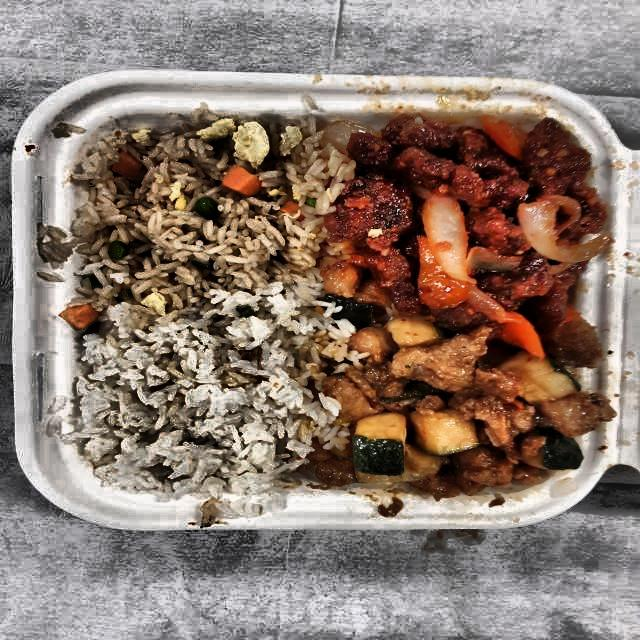Food: (317, 112, 614, 335), (76, 111, 332, 334), (319, 304, 615, 496), (76, 329, 327, 496)
